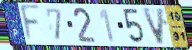1: (99, 8, 115, 43)
2: (73, 6, 97, 44)
5: (122, 8, 146, 45)
7: (45, 8, 63, 42)
F: (19, 4, 41, 45)
V: (141, 6, 166, 46)
